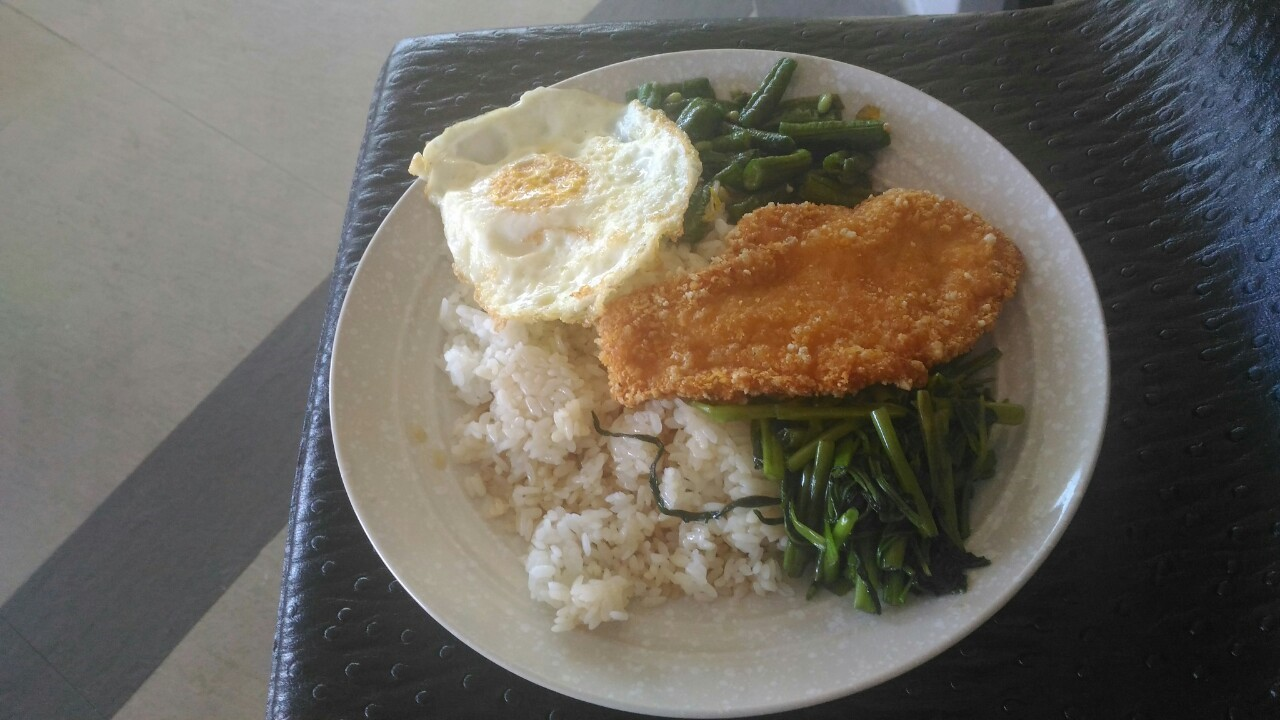fried_chicken: (596, 197, 1020, 395)
fried_eggs: (434, 89, 699, 322)
rice: (484, 391, 770, 607)
water_spinach: (773, 398, 973, 598)
